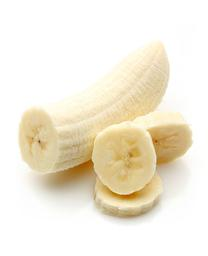banana: (17, 38, 196, 217)
